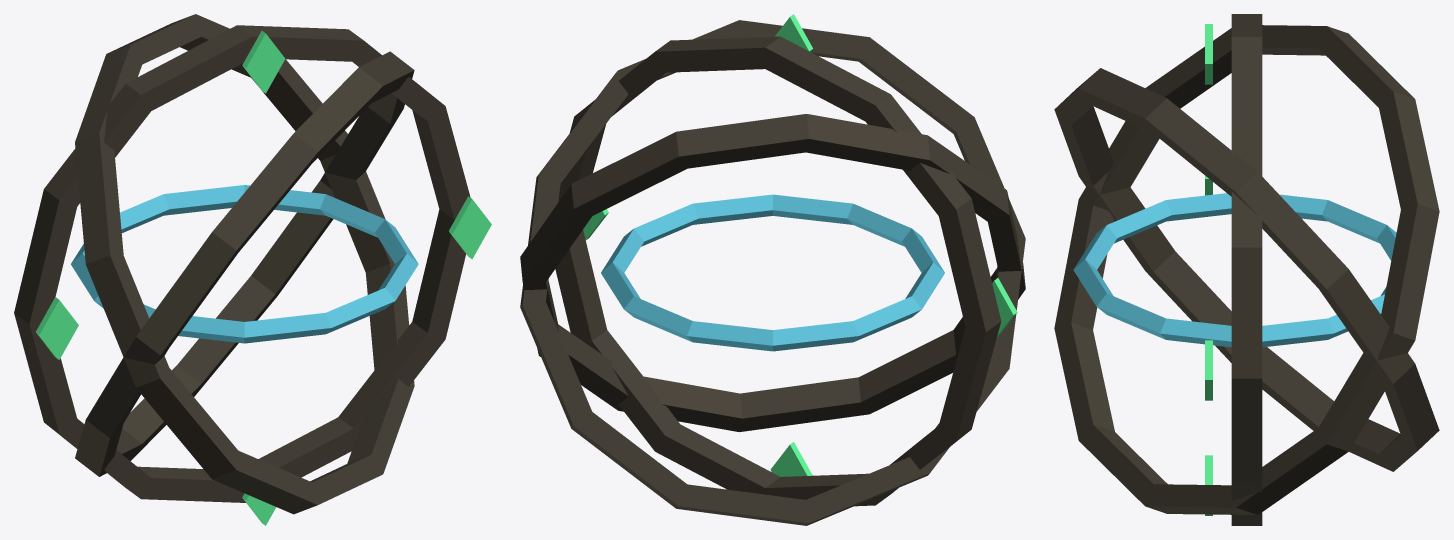
The model's file is void_lattice_shell.obj.
3 views of the same model, side by side, from view 1: azimuth 30°, elevation 25°; view 2: azimuth 150°, elevation 25°; view 3: azimuth 270°, elevation 25° (orthographic).
Parts seen in each view (by area): view 1: void_lattice_0_void_lattice, void_lattice_2_void_lattice, void_lattice_1_void_lattice, void_shell_core, void_node_0, void_node_1, void_node_2; view 2: void_lattice_2_void_lattice, void_lattice_0_void_lattice, void_lattice_1_void_lattice, void_shell_core, void_node_3; view 3: void_lattice_2_void_lattice, void_lattice_1_void_lattice, void_lattice_0_void_lattice, void_shell_core, void_node_0_edge, void_node_1_edge.
Boxes of the visible parts, x1,y1,x2,y2 form: void_lattice_0_void_lattice: [14, 25, 470, 502]; void_lattice_2_void_lattice: [75, 14, 414, 514]; void_lattice_1_void_lattice: [75, 51, 414, 476]; void_shell_core: [71, 185, 418, 343]; void_node_0: [453, 199, 491, 259]; void_node_1: [246, 33, 285, 93]; void_node_2: [40, 300, 78, 359]; void_lattice_2_void_lattice: [520, 114, 1025, 432]; void_lattice_0_void_lattice: [555, 36, 1001, 506]; void_lattice_1_void_lattice: [520, 20, 1025, 525]; void_shell_core: [601, 194, 944, 351]; void_node_3: [770, 445, 807, 476]; void_lattice_2_void_lattice: [1054, 25, 1439, 515]; void_lattice_1_void_lattice: [1054, 68, 1439, 471]; void_lattice_0_void_lattice: [1231, 14, 1262, 525]; void_shell_core: [1073, 193, 1396, 347]; void_node_0_edge: [1205, 340, 1212, 400]; void_node_1_edge: [1205, 24, 1212, 84].
Size of the model in its own units: 1.1 by 1.14 by 0.8096.
